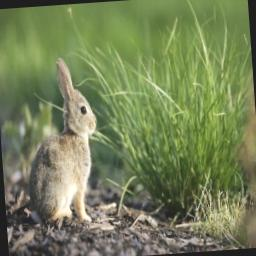rabbit: (28, 57, 95, 222)
